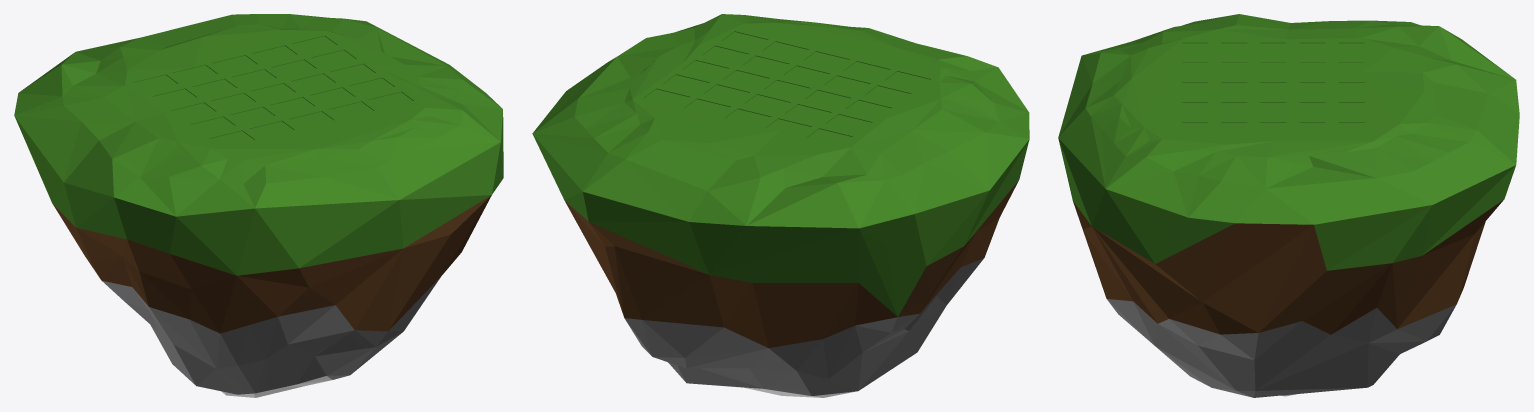
The model's file is world5.fbx.
3 views of the same model, side by side, from view 1: azimuth 30°, elevation 25°; view 2: azimuth 150°, elevation 25°; view 3: azimuth 270°, elevation 25° (orthographic). The views are drawn at different scales.
Visible parts, largest first — view 1: Cube.071; view 2: Cube.071; view 3: Cube.071.
Boxes of the visible parts, <box> form: Cube.071: <box>14,14,503,397</box>; Cube.071: <box>532,14,1029,397</box>; Cube.071: <box>1058,14,1519,397</box>.
Bounding box in the file's own units: 10095 × 7130 × 9886.
